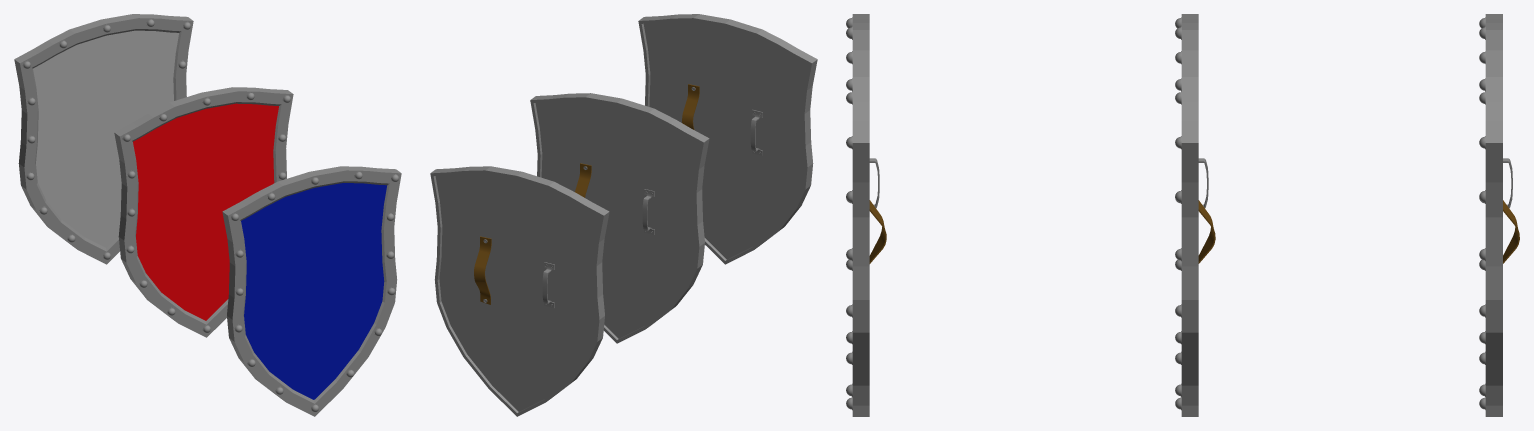
The model's file is Small Shields.fbx.
3 views of the same model, side by side, from view 1: azimuth 30°, elevation 25°; view 2: azimuth 150°, elevation 25°; view 3: azimuth 270°, elevation 25° (orthographic). The views are drawn at different scales.
Visible parts, largest first — view 1: Small Shield (Blue), Small Shield (Red), Small Shield; view 2: Small Shield, Small Shield (Blue), Small Shield (Red); view 3: Small Shield (Blue), Small Shield (Red), Small Shield.
Boxes of the visible parts, x1,y1,x2,y2 form: Small Shield (Blue): [222, 166, 401, 416]; Small Shield (Red): [114, 87, 293, 337]; Small Shield: [14, 14, 193, 264]; Small Shield: [430, 166, 609, 416]; Small Shield (Blue): [638, 14, 817, 264]; Small Shield (Red): [530, 93, 709, 343]; Small Shield (Blue): [846, 14, 886, 416]; Small Shield (Red): [1175, 14, 1215, 416]; Small Shield: [1479, 14, 1519, 416].
Size of the model in its own units: 162 by 214 by 357.
